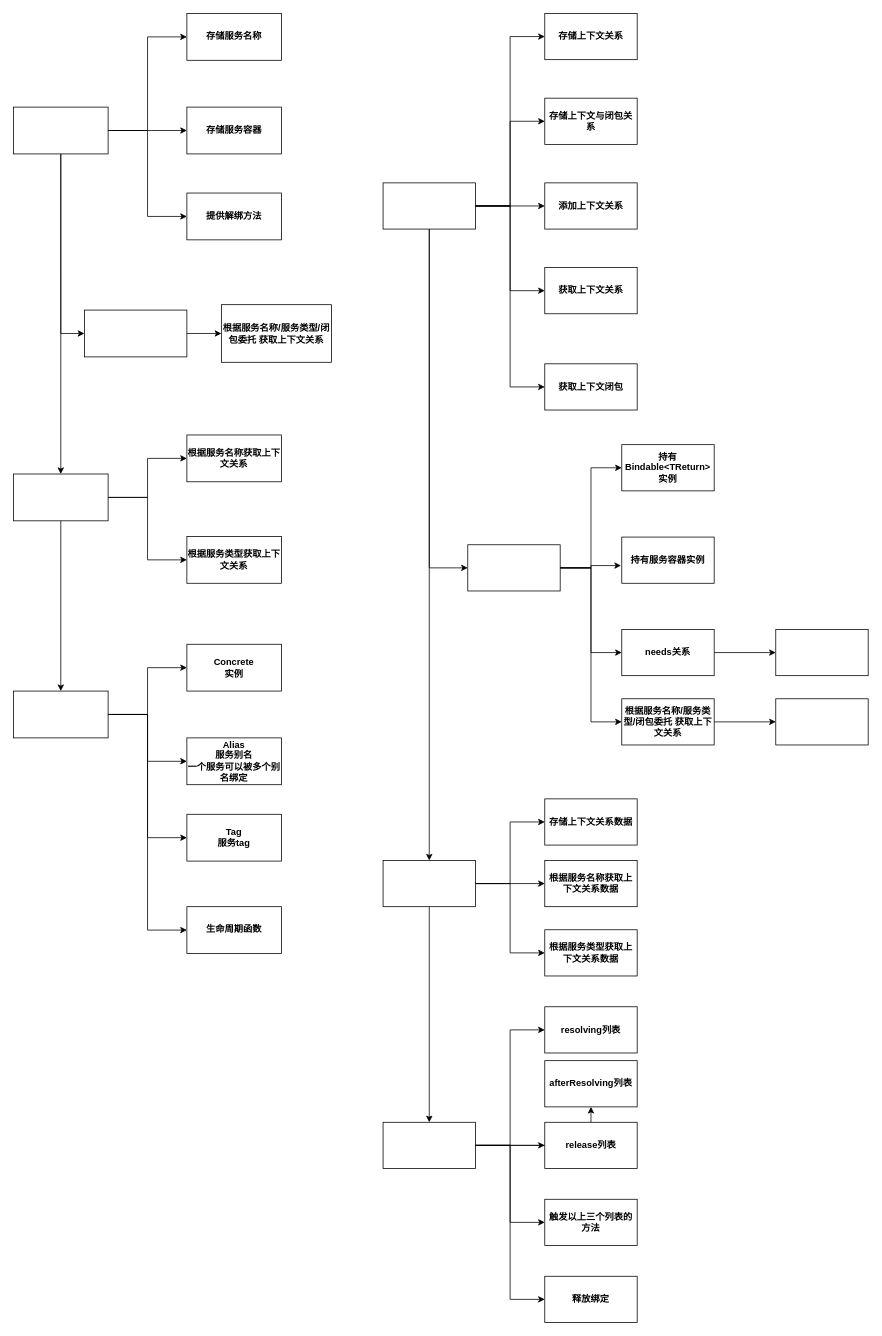
This 882x1336 diagram has some shape labels left out. The centre of each missing label's shape, as x and y in pixels:
"Bindable" belongs at pixel 428 205.
"Bindable<TRetrun>" belongs at pixel 428 883.
"BindData" belongs at pixel 428 1145.
"GivenData" belongs at pixel 513 567.
"IBindable" belongs at pixel 60 130.
"IBindable<TRetrun>" belongs at pixel 60 497.
"IBindData" belongs at pixel 60 714.
"IGivenData<TReturn>" belongs at pixel 135 333.
"添加needs关系并返回自身" belongs at pixel 821 652.
"调用bindable实例的添加上下文方法" belongs at pixel 821 721.
